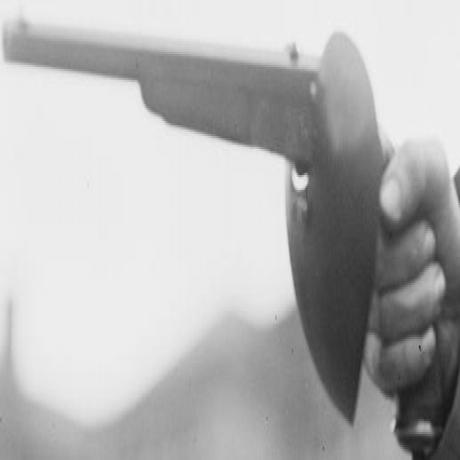weapon: (0, 4, 377, 451)
